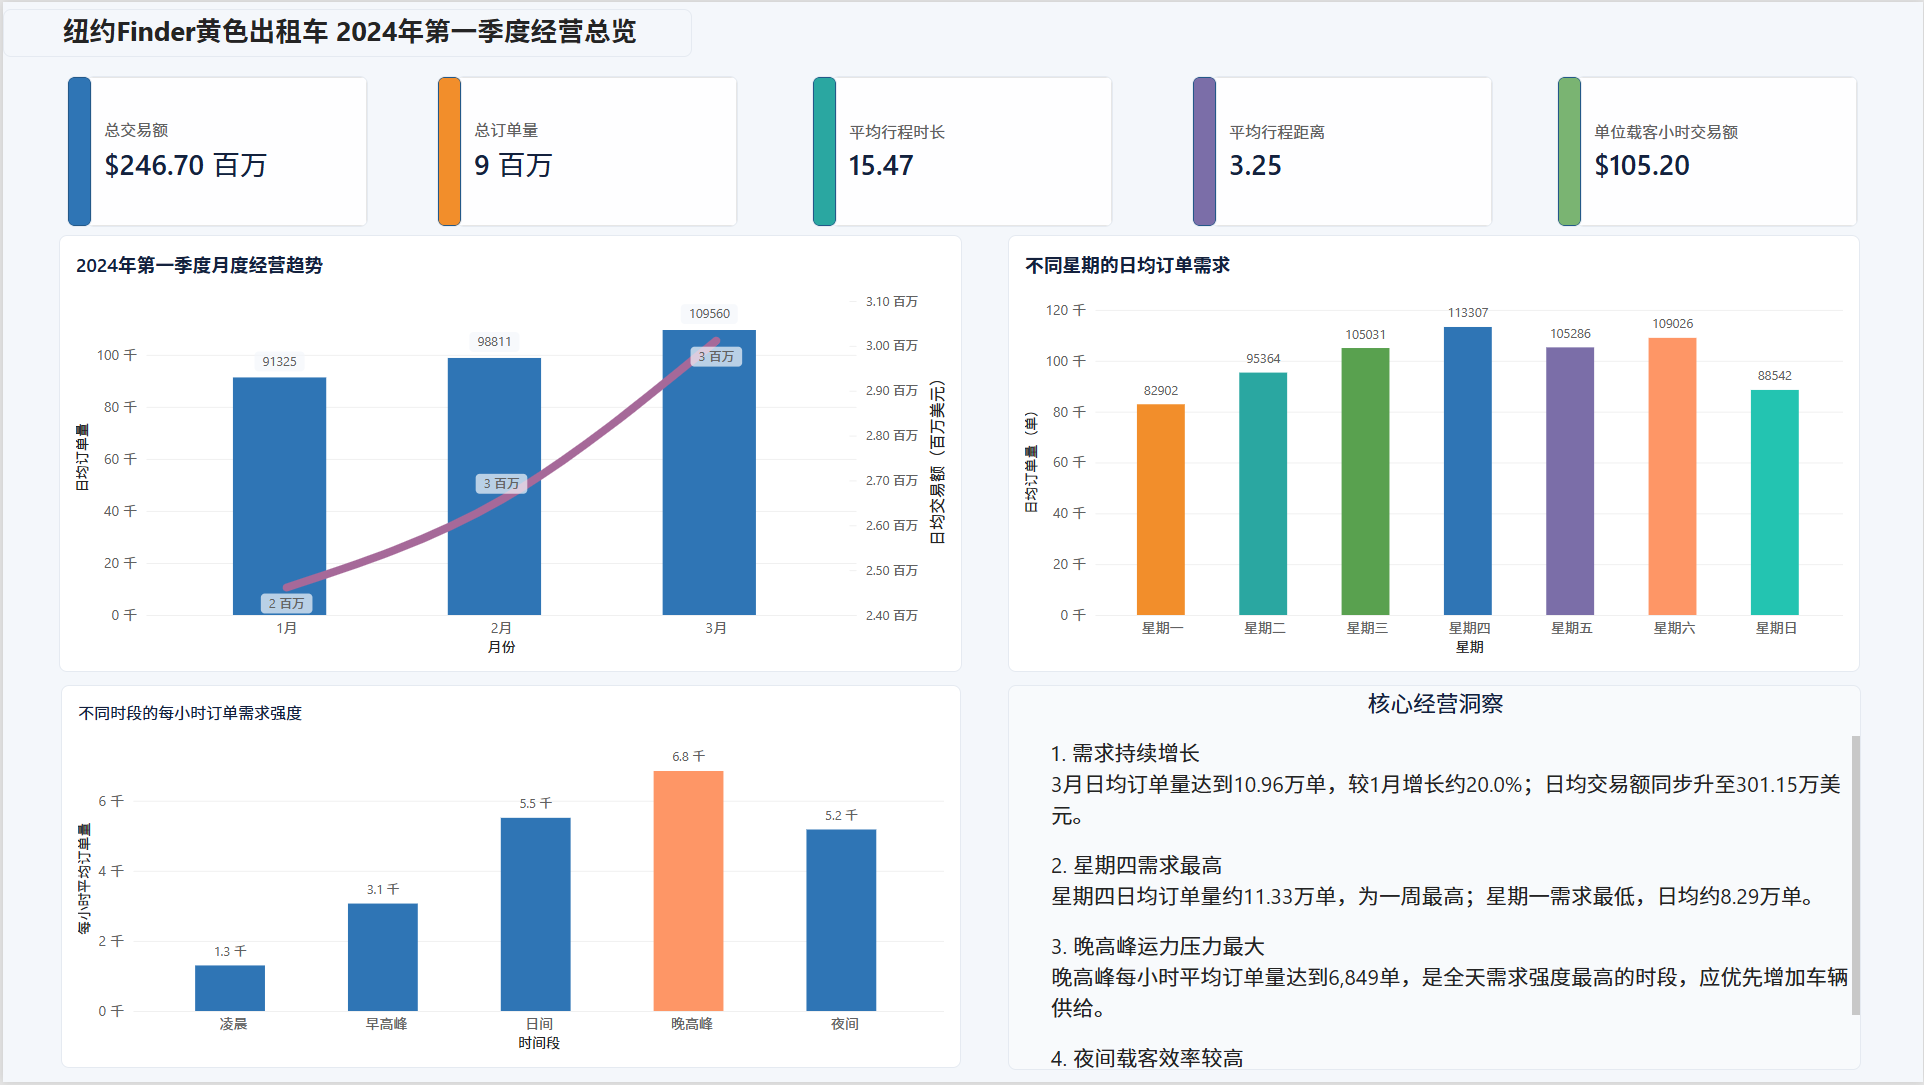

What the dashboard file says about the page in this screenshot:
{"tool":"powerbi","page":{"name":"第 2 页","canvas":[1920,1080],"ordinal":0},"visuals":[{"type":"lineClusteredColumnComboChart","title":"2024年第一季度月度经营趋势","fields":{"Category":["pbi_monthly_business.month_name"],"Y":["Sum(pbi_monthly_business.average_daily_orders)"],"Y2":["Sum(pbi_monthly_business.average_daily_transaction_amount)"]},"box":[56.2,232.9,902.4,437.2],"z":0},{"type":"clusteredColumnChart","title":"不同星期的日均订单需求","fields":{"Category":["pbi_weekday_business.weekday_name"],"Y":["Sum(pbi_weekday_business.average_daily_orders)"]},"box":[1005.3,232.9,852.1,437.2],"z":1000},{"type":"clusteredColumnChart","title":"不同时段的每小时订单需求强度","fields":{"Category":["pbi_time_period_business.time_period"],"Y":["Sum(pbi_time_period_business.average_orders_per_clock_hour)"]},"box":[57.5,682.5,900,383.8],"z":2000},{"type":"cardVisual","fields":{"Data":["pbi_kpi_overview.总交易额"]},"box":[82.5,73.8,282.5,151.2],"z":3000},{"type":"shape","box":[63.5,73.8,25,151.2],"z":4000},{"type":"textbox","title":"核心经营洞察","box":[1005,682.5,852.5,385],"z":5000},{"type":"textbox","box":[0,6.9,688.5,48.5],"z":6000},{"type":"cardVisual","fields":{"Data":["pbi_kpi_overview.总订单量"]},"box":[452.5,73.8,282.5,151.2],"z":7000},{"type":"shape","box":[433.5,73.8,25,151.2],"z":8000},{"type":"cardVisual","fields":{"Data":["pbi_kpi_overview.平均行程时长"]},"box":[827.5,73.8,282.5,151.2],"z":9000},{"type":"shape","box":[808.5,73.8,25,151.2],"z":10000},{"type":"cardVisual","fields":{"Data":["pbi_kpi_overview.平均行程距离"]},"box":[1207.5,73.8,282.5,151.2],"z":11000},{"type":"shape","box":[1188.5,73.8,25,151.2],"z":12000},{"type":"cardVisual","fields":{"Data":["pbi_kpi_overview.单位载客小时交易额"]},"box":[1572.5,73.8,282.5,151.2],"z":13000},{"type":"shape","box":[1553.5,73.8,25,151.2],"z":14000}]}

Visuals, with their boxes in screenshot pixels (x1, y1, x2, y2), scaled from the page's 1920x1080 canvas onto the 1924x1085 screenshot:
"2024年第一季度月度经营趋势" lineClusteredColumnComboChart: (56,234,961,673)
"不同星期的日均订单需求" clusteredColumnChart: (1007,234,1861,673)
"不同时段的每小时订单需求强度" clusteredColumnChart: (58,686,959,1071)
cardVisual - pbi_kpi_overview.总交易额: (83,74,366,226)
shape: (64,74,89,226)
"核心经营洞察" textbox: (1007,686,1861,1072)
textbox: (0,7,690,56)
cardVisual - pbi_kpi_overview.总订单量: (453,74,737,226)
shape: (434,74,459,226)
cardVisual - pbi_kpi_overview.平均行程时长: (829,74,1112,226)
shape: (810,74,835,226)
cardVisual - pbi_kpi_overview.平均行程距离: (1210,74,1493,226)
shape: (1191,74,1216,226)
cardVisual - pbi_kpi_overview.单位载客小时交易额: (1576,74,1859,226)
shape: (1557,74,1582,226)
